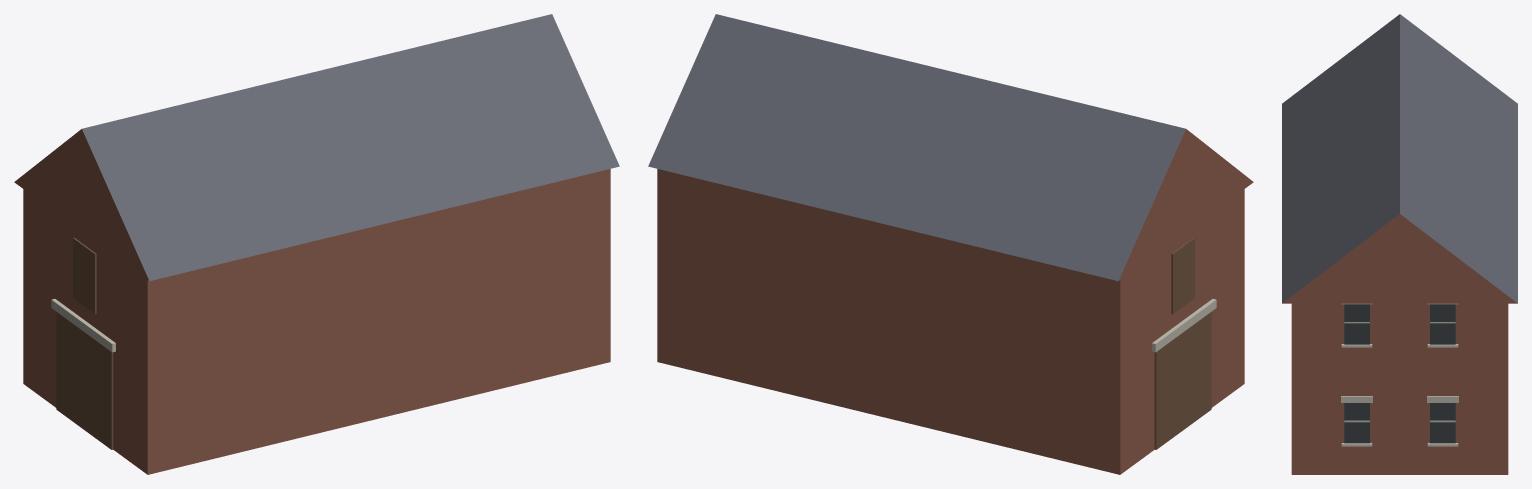
The model's file is house_1736_prairie_coach_house__draft_1904.glb.
The picture shows the model from 3 angles, left to right: view 1: azimuth 30°, elevation 25°; view 2: azimuth 150°, elevation 25°; view 3: azimuth 270°, elevation 25°; orthographic projection. The views are drawn at different scales.
Parts seen in each view (by area): view 1: house_1736_prairie_coach_house__draft_1904; view 2: house_1736_prairie_coach_house__draft_1904; view 3: house_1736_prairie_coach_house__draft_1904.
Part boxes in pixels (x1,y1,x2,y2): house_1736_prairie_coach_house__draft_1904: (14, 14, 619, 474); house_1736_prairie_coach_house__draft_1904: (648, 14, 1253, 474); house_1736_prairie_coach_house__draft_1904: (1282, 14, 1517, 474).
Size of the model in its own units: 14.74 by 9.03 by 7.35.
